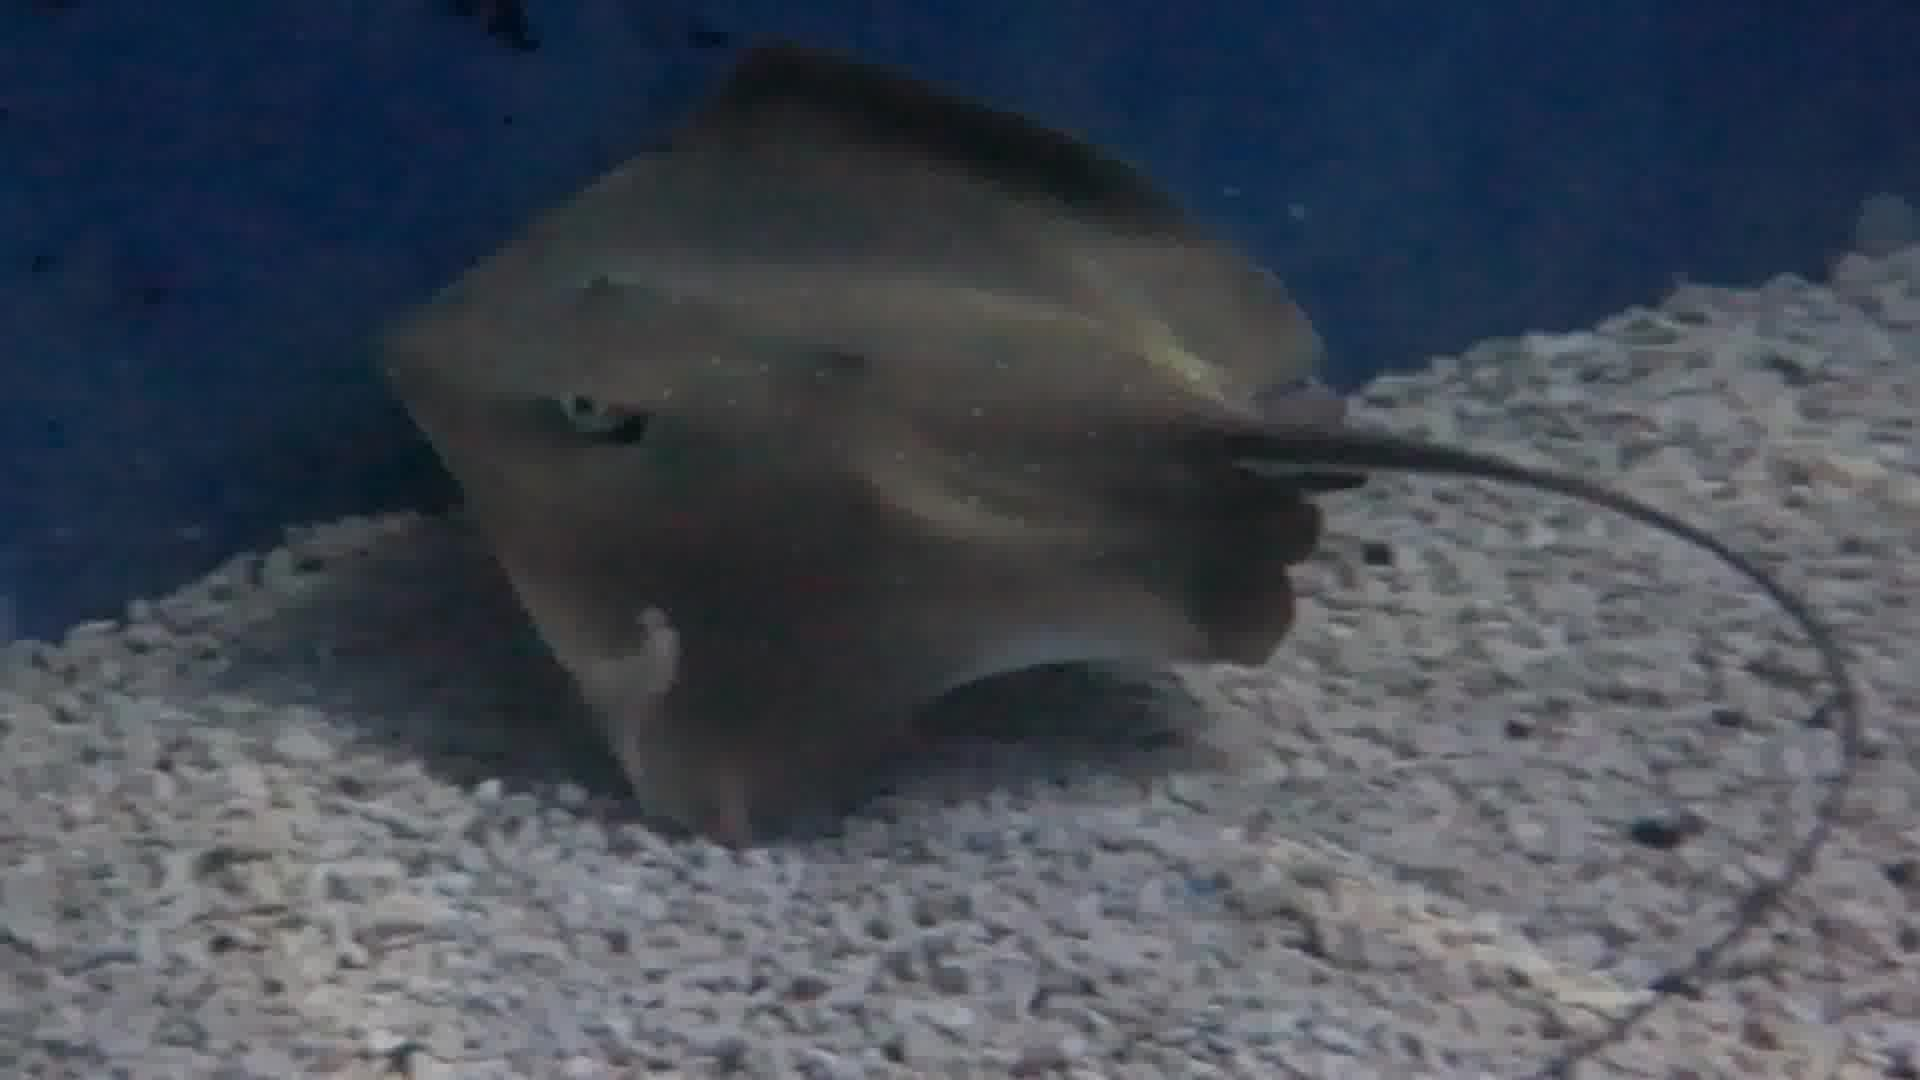Himantura gerrardi: (318, 51, 1832, 852)
